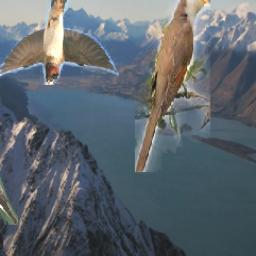Cuckoo: (136, 0, 211, 173)
Swallow: (0, 0, 120, 85), (0, 162, 18, 225)
